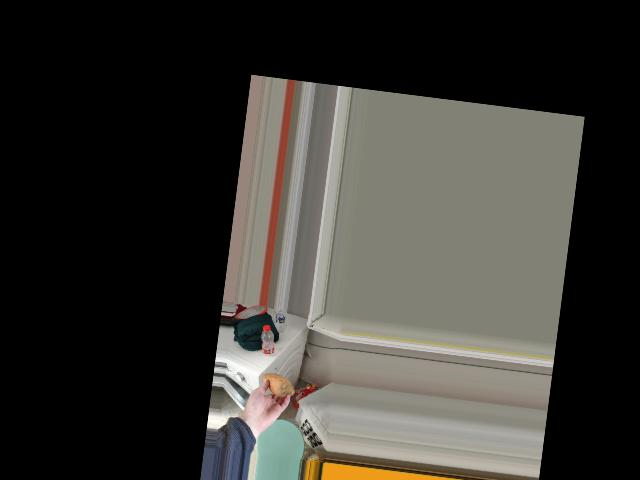sweet_potato: (261, 372, 292, 401)
